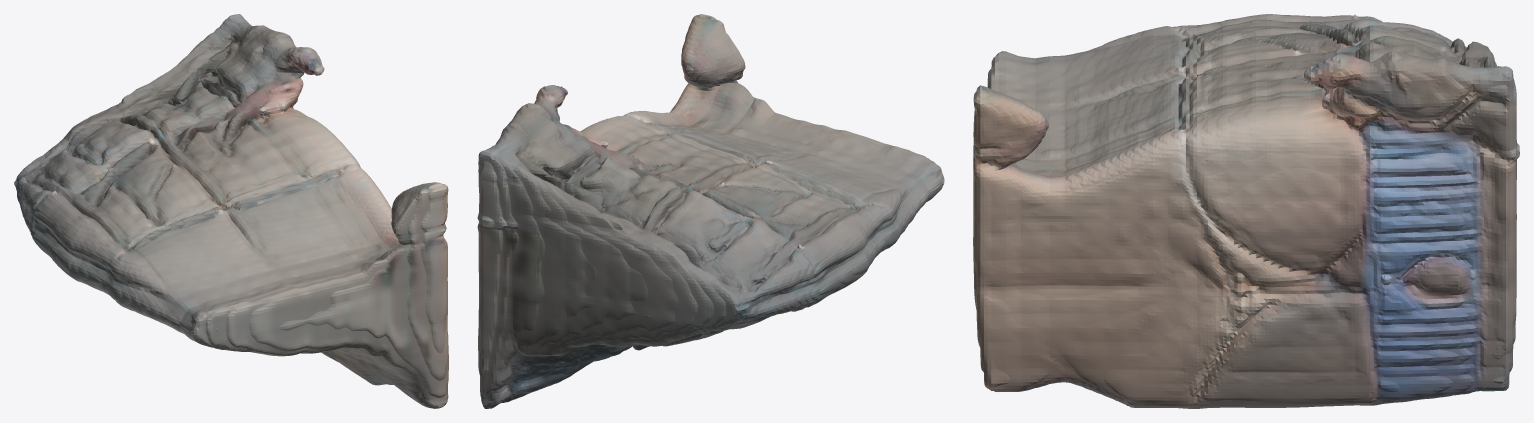
3 views of the same model, side by side, from view 1: azimuth 30°, elevation 25°; view 2: azimuth 150°, elevation 25°; view 3: azimuth 270°, elevation 25° (orthographic). The views are drawn at different scales.
Visible parts, largest first — view 1: world; view 2: world; view 3: world.
Part boxes in pixels (x1,y1,x2,y2): world: (14, 14, 448, 408); world: (477, 14, 944, 408); world: (973, 14, 1519, 408).
Bounding box in the file's own units: 0.7875 × 0.7221 × 1.01.
